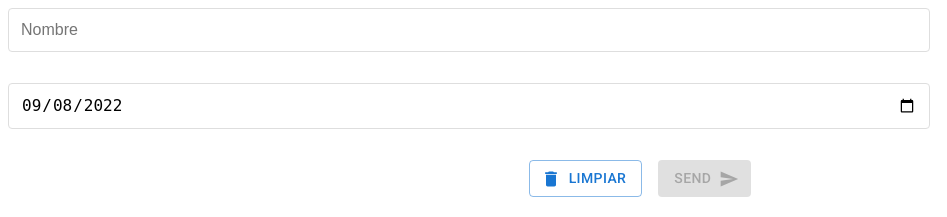
Componente Form › Should clean the input value on click on button 'Limpiar'
Type "Terminar React" into the field with placeholder "Nombre". click: (469, 30)
box: [8,8,930,52]
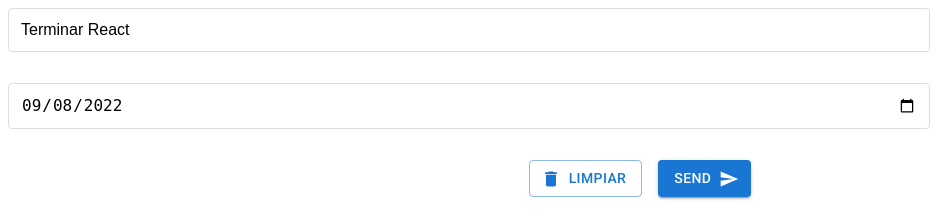
Click the button "Limpiar". click: (585, 179)
box: [529,160,642,197]
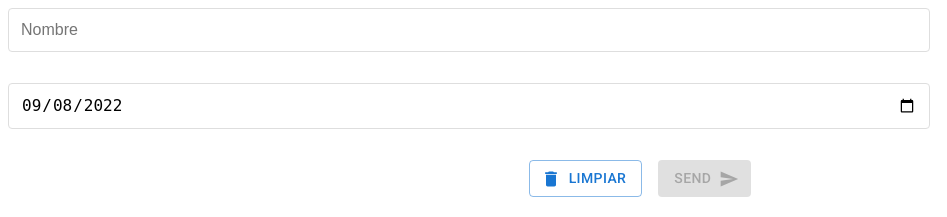
Expected: the field with placeholder "Nombre" is empty, [8,8,930,52]
